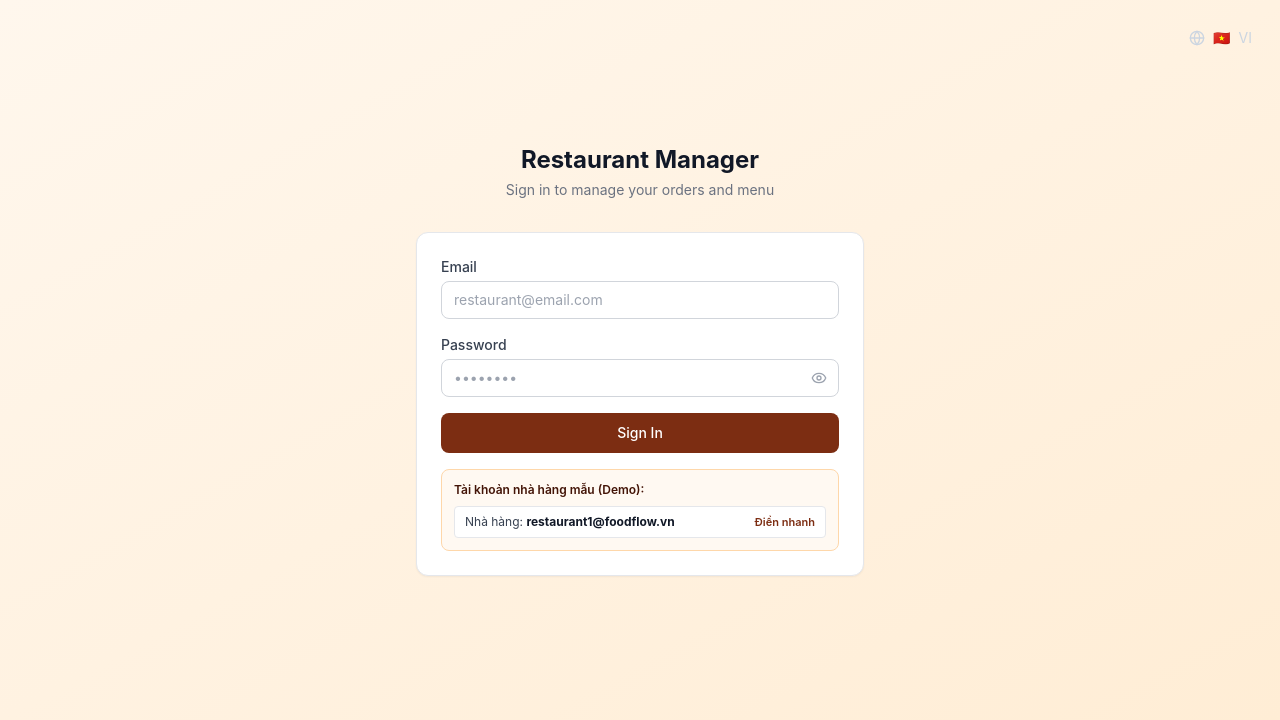
Restaurant LoginPage › uses localized accessible names when toggling password visibility
Click the button named "Show password".
click(819, 378)  # box [811, 370, 827, 386]
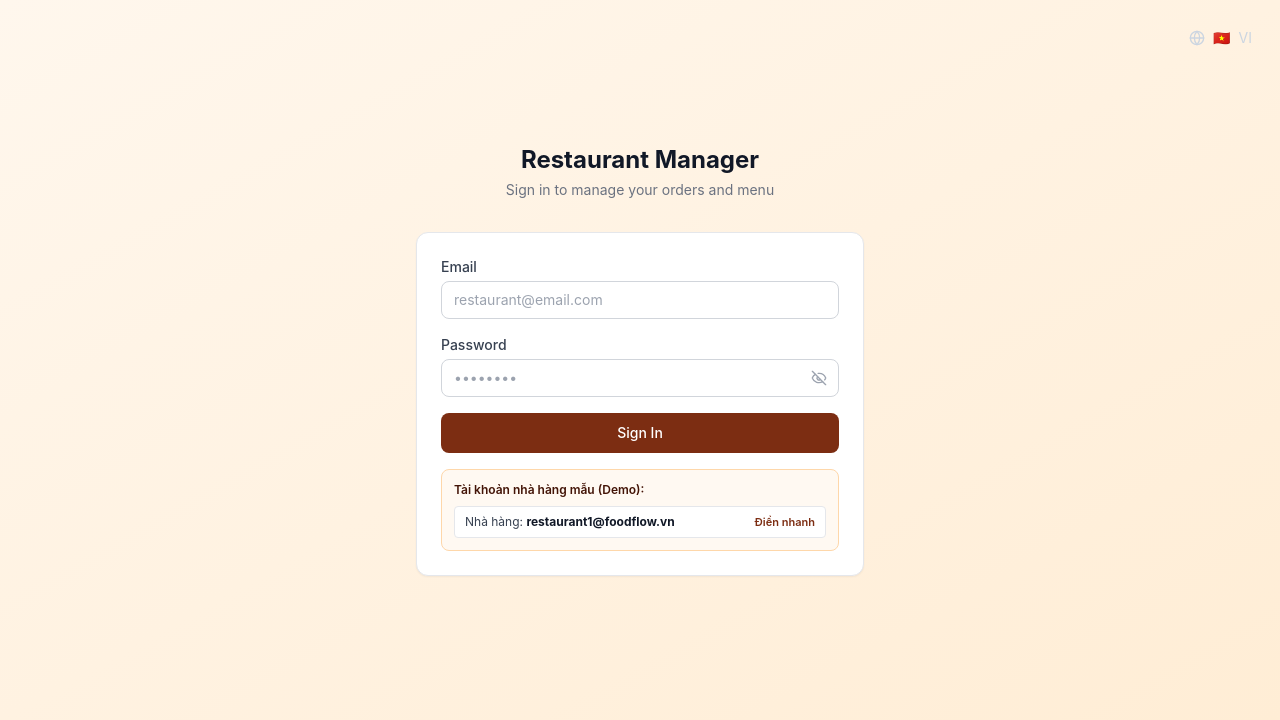
Result: the button named "Hide password" is shown at [811, 370, 827, 386]
